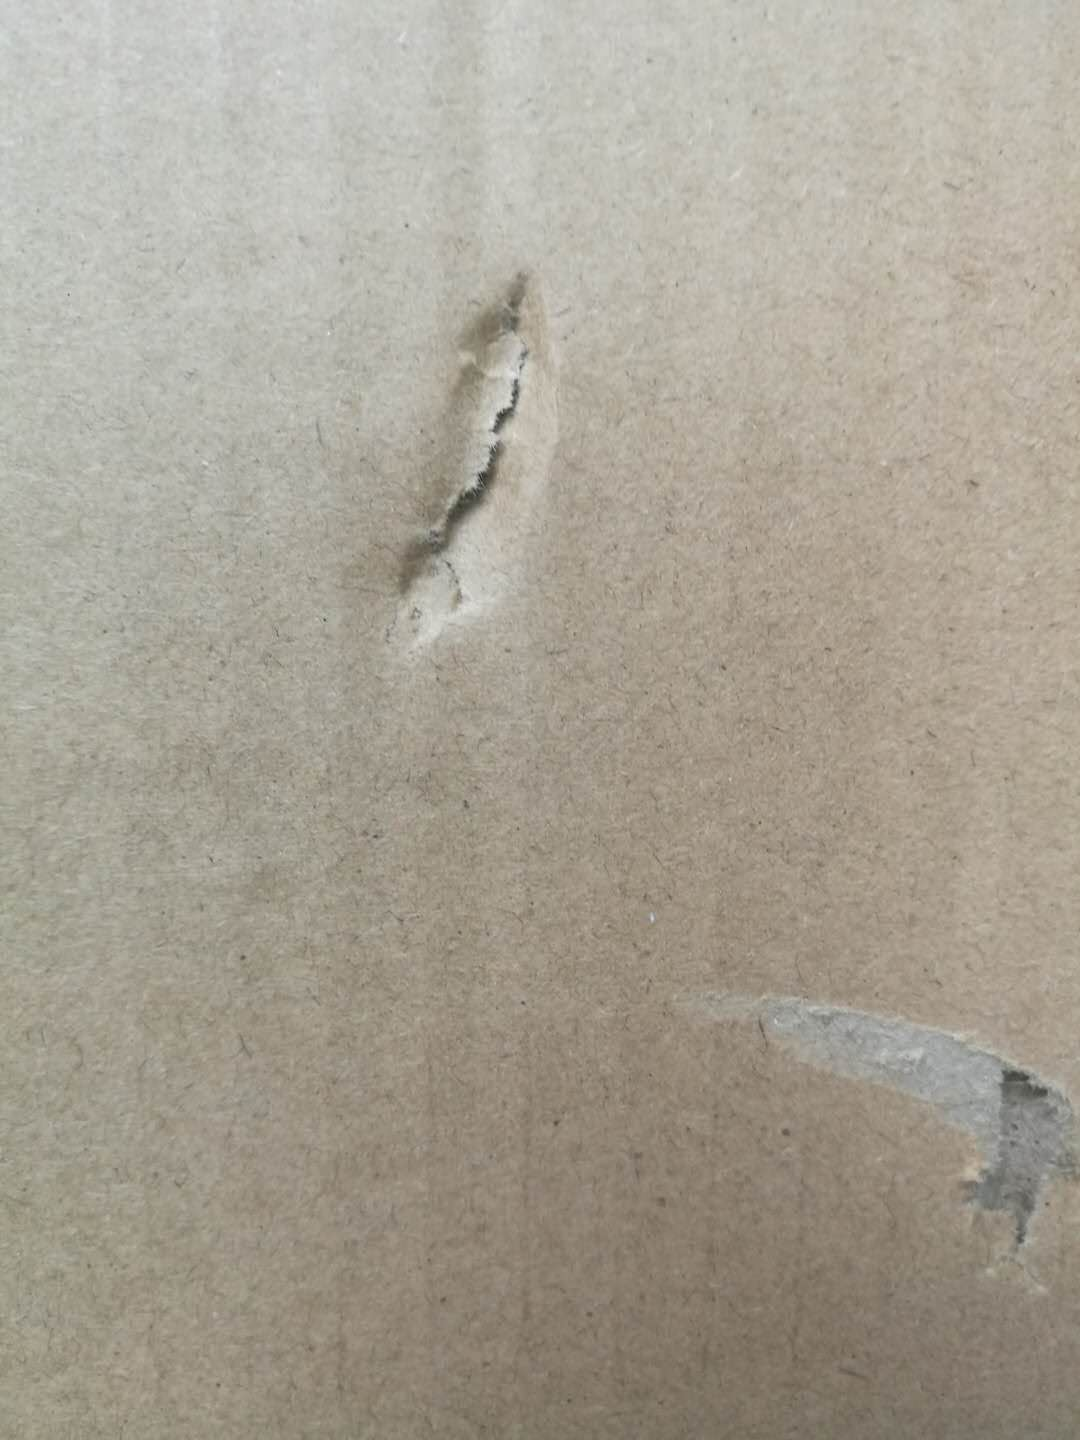defect: (652, 962, 1080, 1306), (355, 245, 599, 688)
